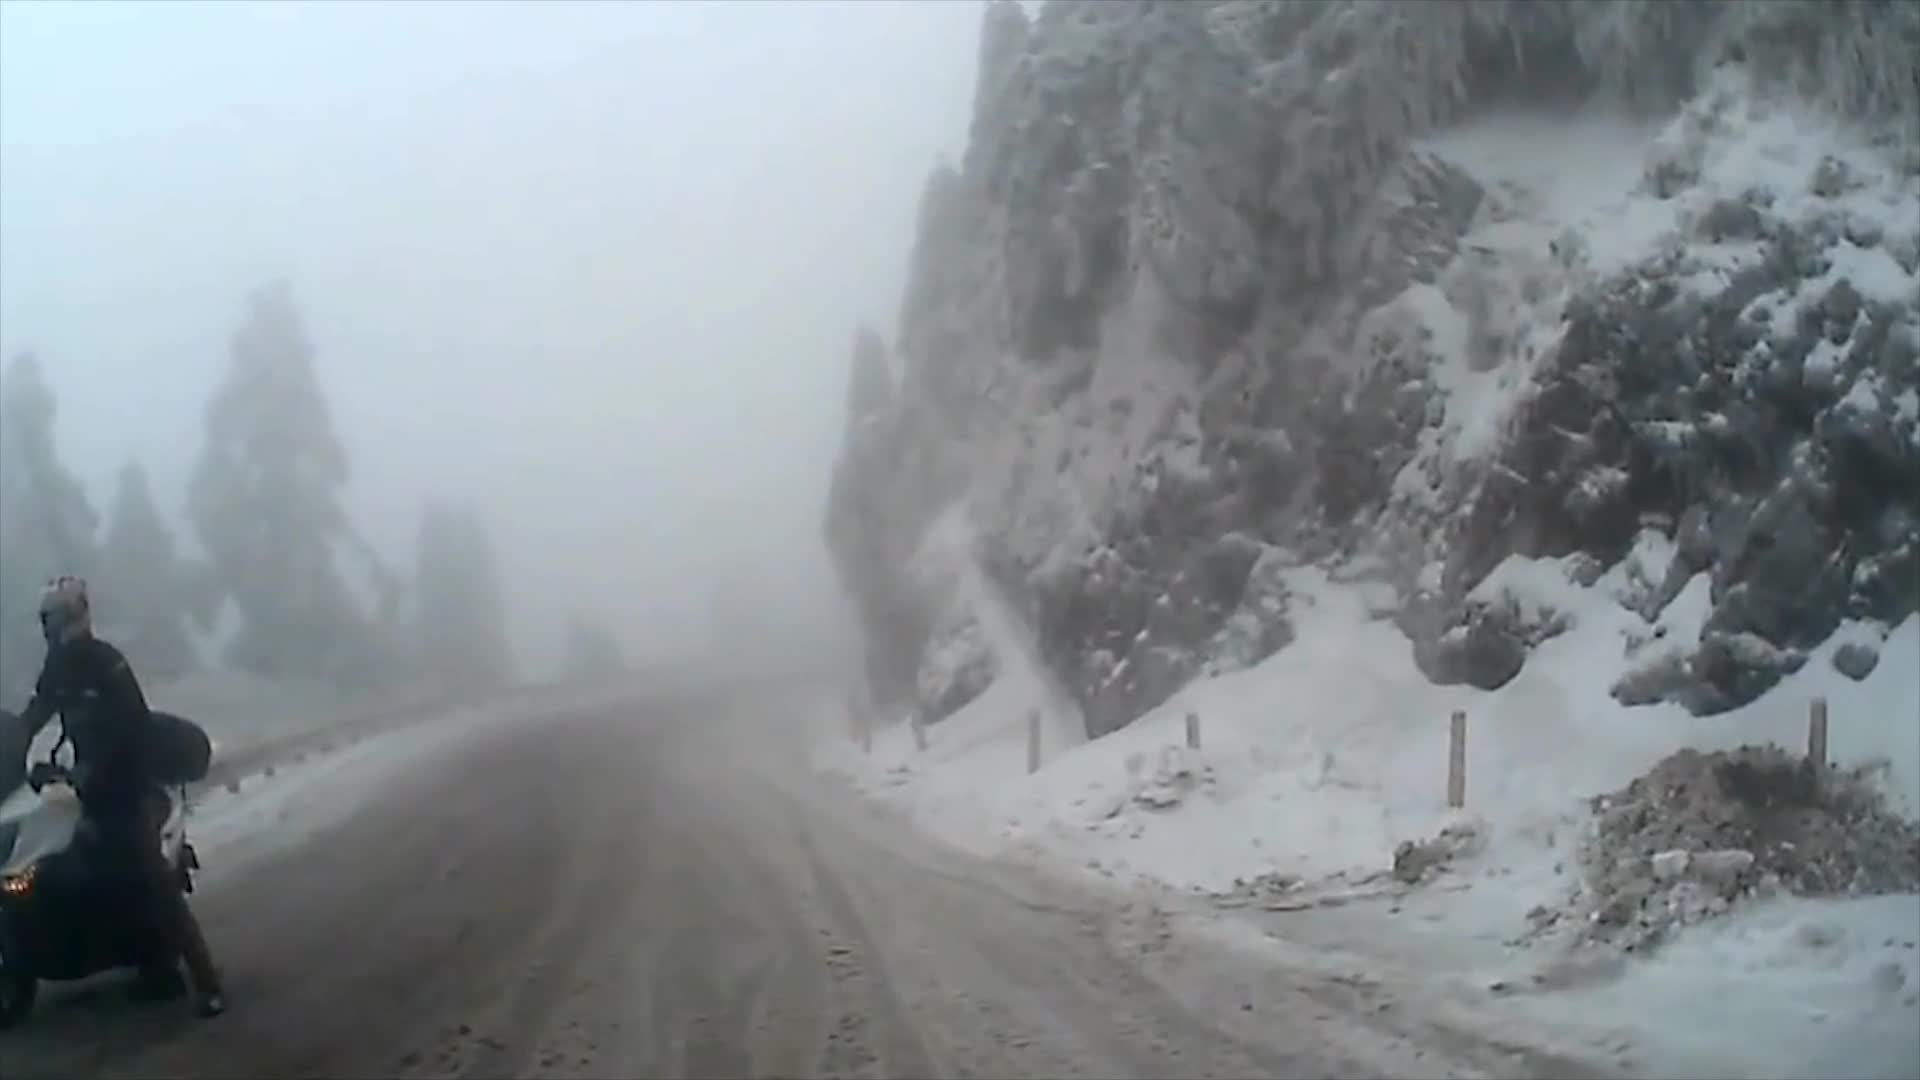pedestrian: (13, 573, 225, 1014)
